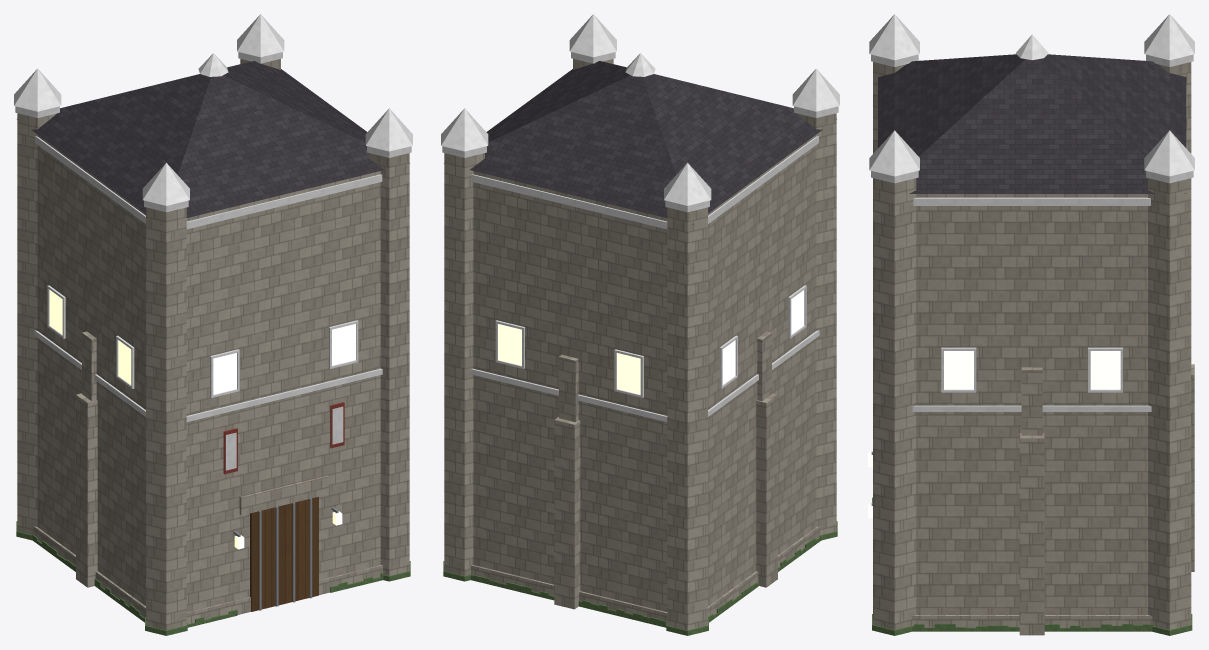
Rendered from keep.t6.glb.
The picture shows the model from 3 angles, left to right: view 1: azimuth 30°, elevation 25°; view 2: azimuth 150°, elevation 25°; view 3: azimuth 270°, elevation 25°; orthographic projection. The views are drawn at different scales.
Visible parts, largest first — view 1: castle.keep.t6; view 2: castle.keep.t6; view 3: castle.keep.t6.
Boxes of the visible parts, x1,y1,x2,y2 form: castle.keep.t6: [14, 14, 412, 635]; castle.keep.t6: [441, 14, 839, 635]; castle.keep.t6: [868, 14, 1194, 635].
Size of the model in its own units: 8 by 14.1 by 7.85.
Materials: 9 (8 with a texture image).
